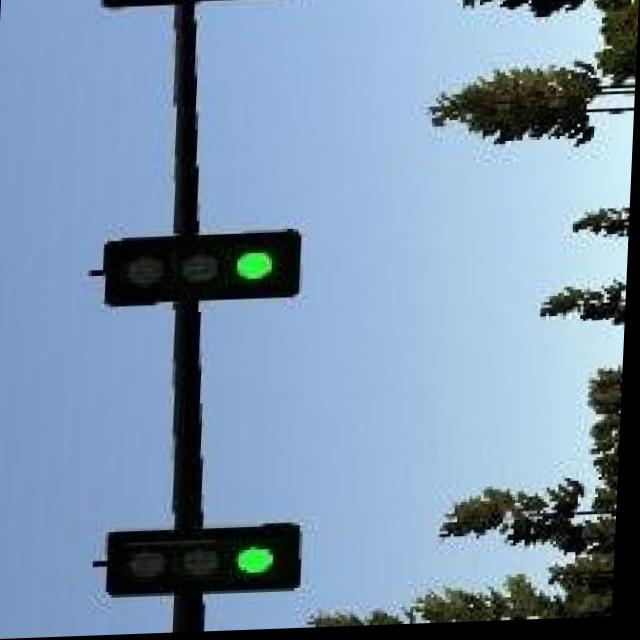green light: (101, 237, 300, 309), (107, 525, 303, 593)
